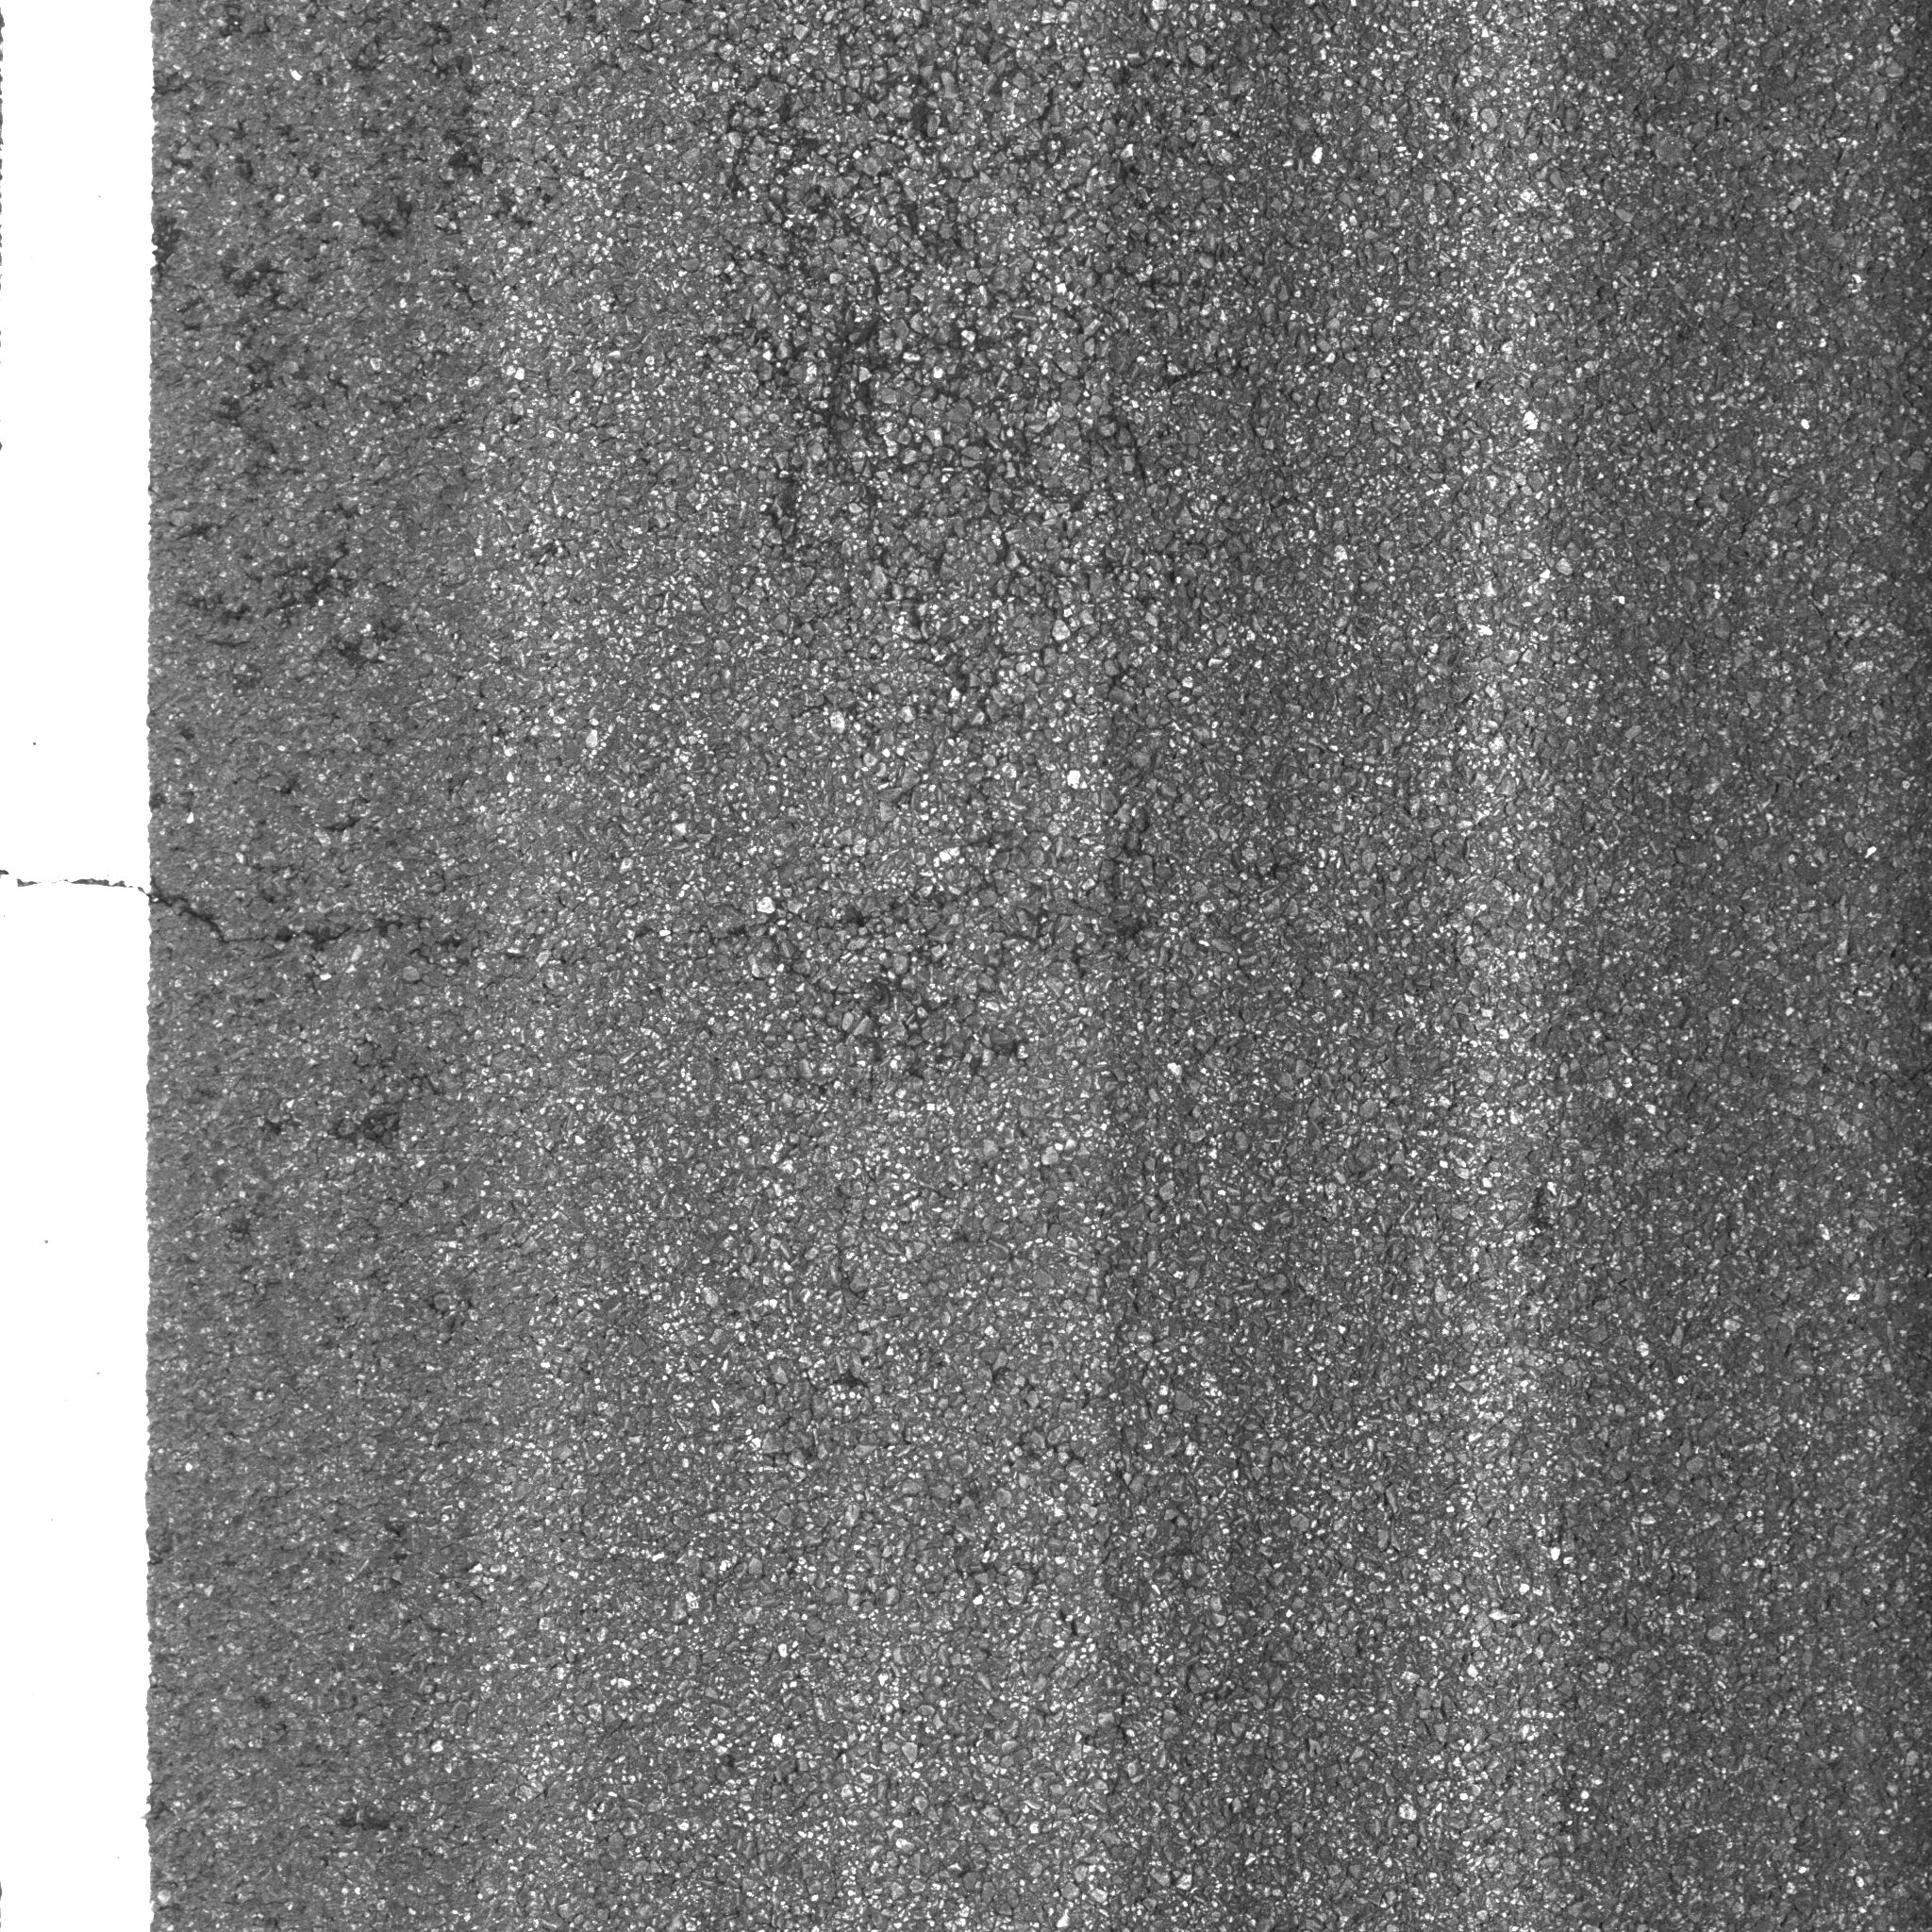transeverse: (5, 844, 1219, 1026)
